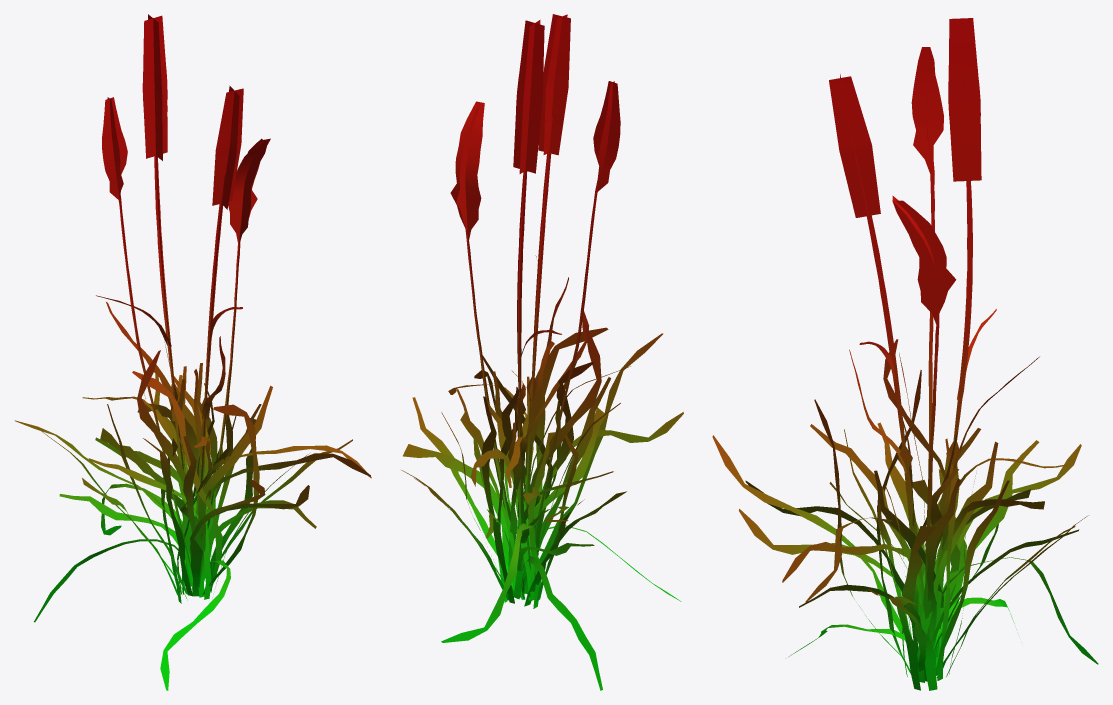
The model's file is slBm1_Var4_LOD0.fbx.
3 renders of one model, left to right at view 1: azimuth 30°, elevation 25°; view 2: azimuth 150°, elevation 25°; view 3: azimuth 270°, elevation 25°, orthographic. The views are drawn at different scales.
Parts seen in each view (by area): view 1: _4a98_Var4_LOD0; view 2: _4a98_Var4_LOD0; view 3: _4a98_Var4_LOD0.
Part boxes in pixels (x1,y1,x2,y2): _4a98_Var4_LOD0: [14, 14, 371, 690]; _4a98_Var4_LOD0: [401, 14, 683, 690]; _4a98_Var4_LOD0: [712, 18, 1098, 690].
Size of the model in its own units: 24.31 by 55.64 by 28.73.
